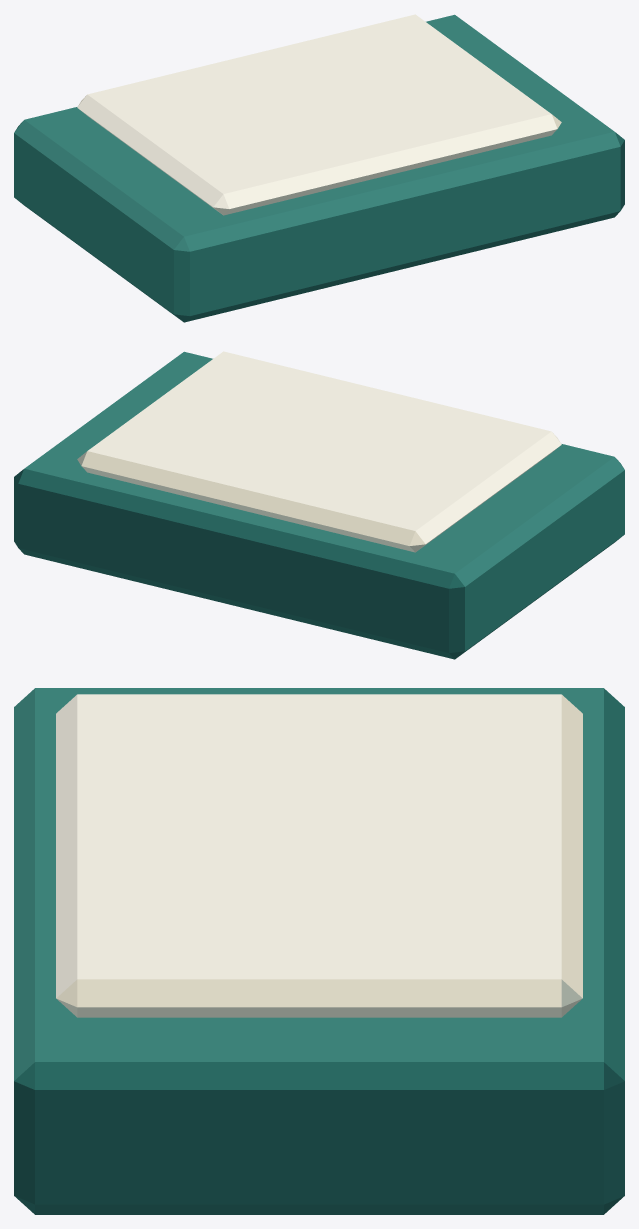
File: Plate_Pressed.gltf
3 views of the same model, one above another, from view 1: azimuth 30°, elevation 25°; view 2: azimuth 150°, elevation 25°; view 3: azimuth 270°, elevation 25° (orthographic). The views are drawn at different scales.
Parts seen in each view (by area): view 1: Plate_Pressed_baked; view 2: Plate_Pressed_baked; view 3: Plate_Pressed_baked.
Part boxes in pixels (x1,y1,x2,y2): Plate_Pressed_baked: [14, 14, 624, 322]; Plate_Pressed_baked: [14, 351, 624, 659]; Plate_Pressed_baked: [14, 688, 624, 1214].
Bounding box in the file's own units: 0.88 × 0.2 × 0.58.
